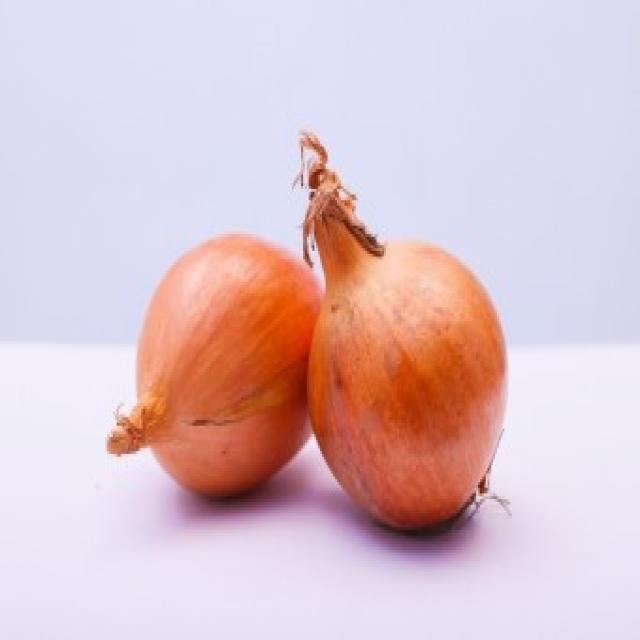onion: (321, 192, 507, 517), (107, 211, 309, 470)
